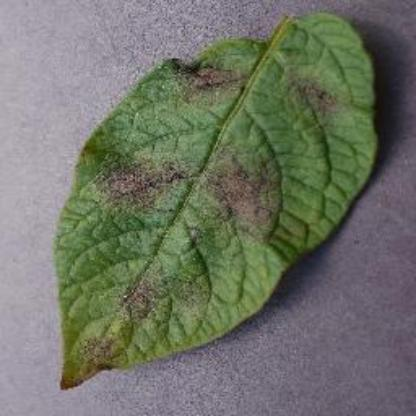Late-Blight: (44, 7, 382, 399)
